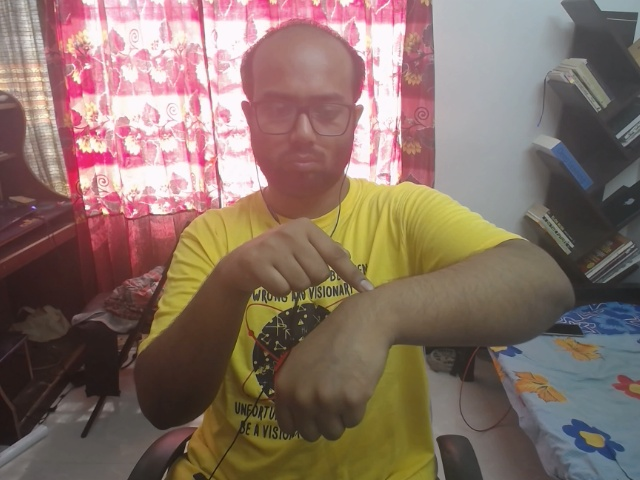time: (102, 210, 440, 460)
